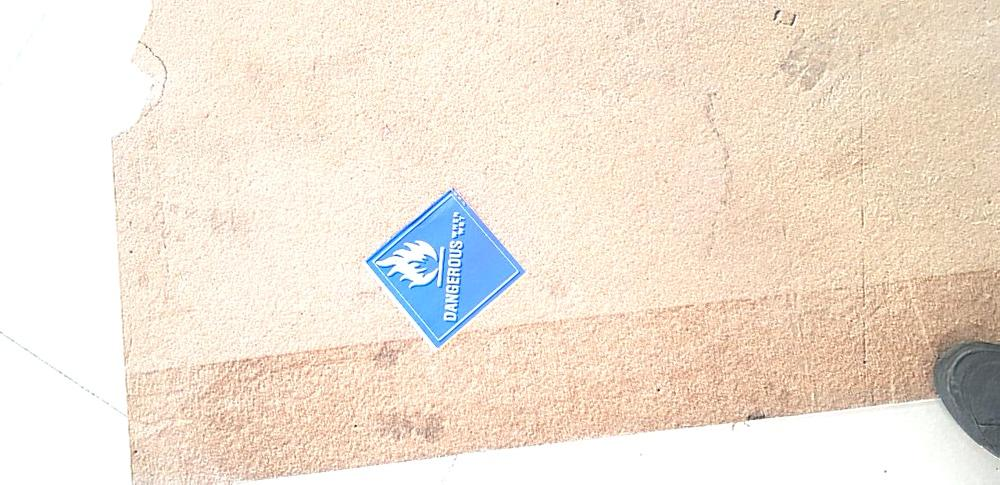dangerous-when-wet: (362, 185, 527, 351)
